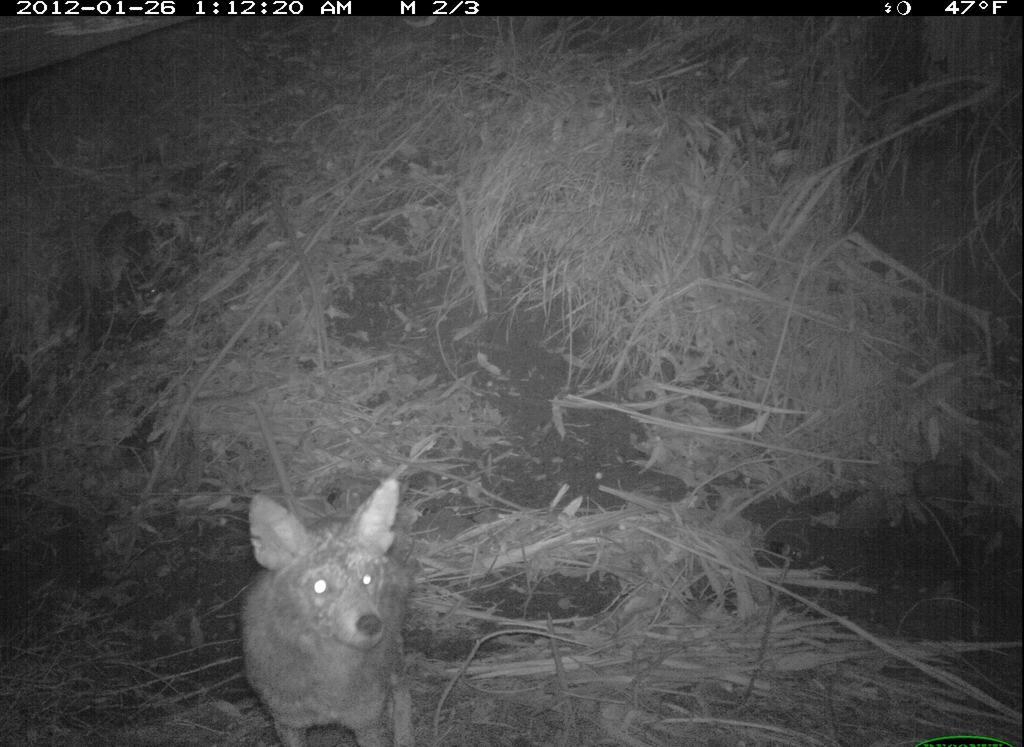coyote: (230, 466, 429, 747)
